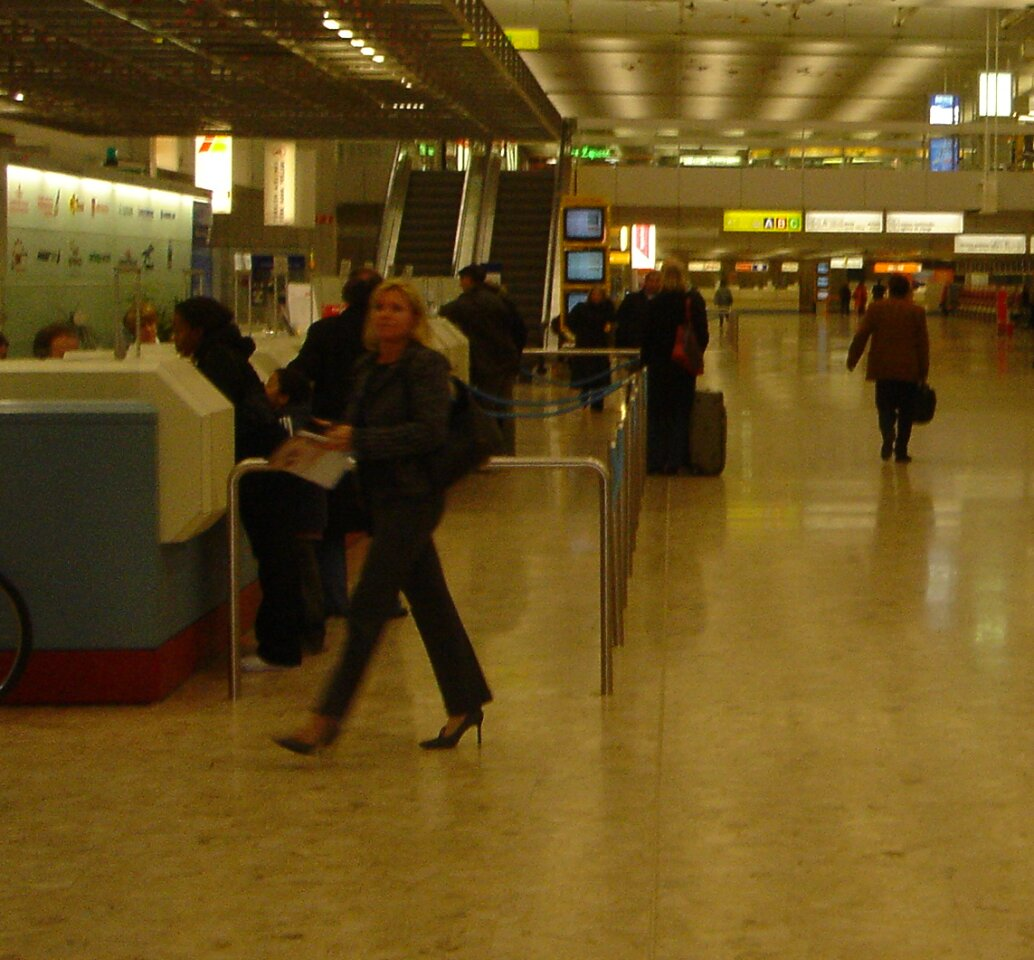person: (281, 280, 489, 766)
